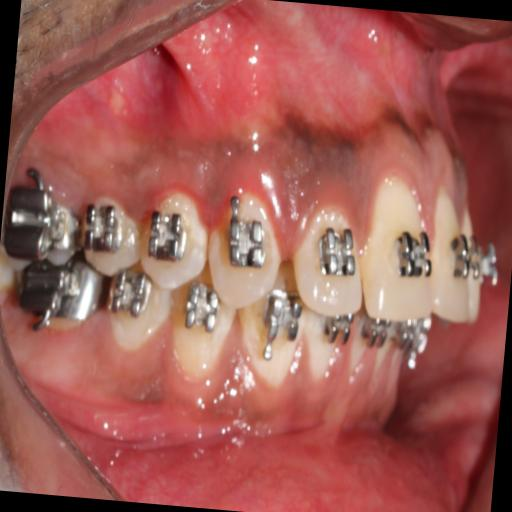correct_brace: (132, 188, 212, 298), (224, 214, 272, 276), (312, 222, 361, 282), (390, 224, 438, 284)
incorrect_brace: (292, 200, 368, 324), (146, 208, 189, 264)
